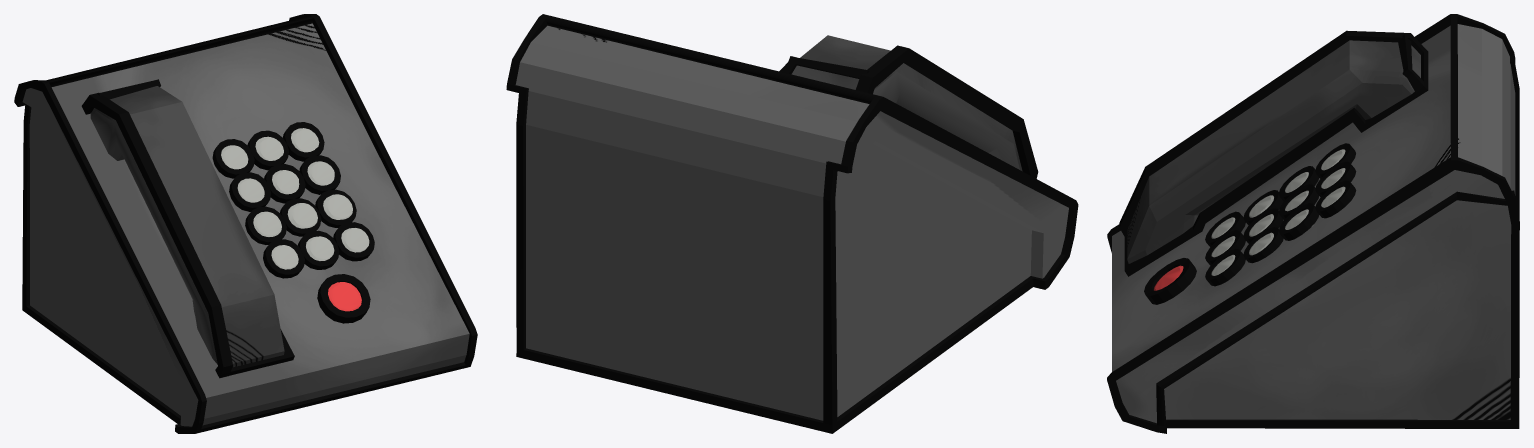
File: Intercom.fbx
3 renders of one model, left to right at view 1: azimuth 30°, elevation 25°; view 2: azimuth 150°, elevation 25°; view 3: azimuth 270°, elevation 25°, orthographic. The views are drawn at different scales.
Parts seen in each view (by area): view 1: Telephone, reciever, Outline, Outline2, Cube.025, Cube.016, Cube.001, Cube.002, Cube, Cube.022, Cube.024, Cube.021 (+18 smaller); view 2: Telephone, Outline, reciever, Outline2; view 3: Telephone, reciever, Outline, Outline2, Cube.025, Cube.021, Cube.022, Cube.024, Cube.023, Cube.020, Cube.019, Cube.017 (+5 smaller).
Boxes of the visible parts, <box> form: Telephone: <box>22,23,469,426</box>; reciever: <box>90,86,284,367</box>; Outline: <box>14,14,477,433</box>; Outline2: <box>81,79,294,378</box>; Cube.025: <box>317,274,370,323</box>; Cube.016: <box>263,239,304,278</box>; Cube.001: <box>229,172,270,211</box>; Cube.002: <box>328,282,361,311</box>; Cube: <box>212,139,254,178</box>; Cube.022: <box>299,155,340,194</box>; Cube.024: <box>333,222,374,261</box>; Cube.021: <box>283,122,324,161</box>; Telephone: <box>515,25,1068,420</box>; Outline: <box>506,14,1078,433</box>; reciever: <box>791,35,1022,171</box>; Outline2: <box>779,45,1038,178</box>; Telephone: <box>1112,24,1515,423</box>; reciever: <box>1127,40,1420,263</box>; Outline: <box>1107,14,1519,433</box>; Outline2: <box>1119,30,1428,276</box>; Cube.025: <box>1144,258,1196,304</box>; Cube.021: <box>1315,180,1356,218</box>; Cube.022: <box>1279,203,1318,240</box>; Cube.024: <box>1205,248,1245,286</box>; Cube.023: <box>1243,227,1283,263</box>; Cube.020: <box>1315,161,1356,197</box>; Cube.019: <box>1278,184,1318,219</box>; Cube.017: <box>1205,230,1245,265</box>.
Size of the model in its own units: 172 by 150 by 205.
